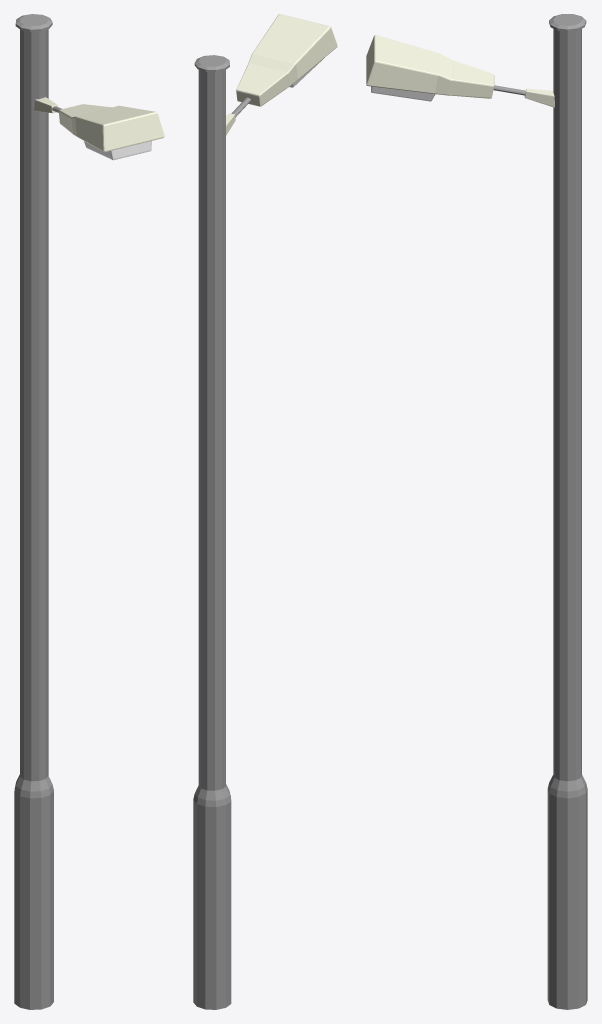
File: Lyktestolpe2.fbx
3 renders of one model, left to right at view 1: azimuth 30°, elevation 25°; view 2: azimuth 150°, elevation 25°; view 3: azimuth 270°, elevation 25°, orthographic. The views are drawn at different scales.
Visible parts, largest first — view 1: Lyktestolpe; view 2: Lyktestolpe; view 3: Lyktestolpe.
Boxes of the visible parts, x1,y1,x2,y2 form: Lyktestolpe: [14, 14, 164, 1009]; Lyktestolpe: [193, 14, 337, 1009]; Lyktestolpe: [366, 14, 587, 1009].
Bounding box in the file's own units: 2.5 × 38.18 × 7.8.
